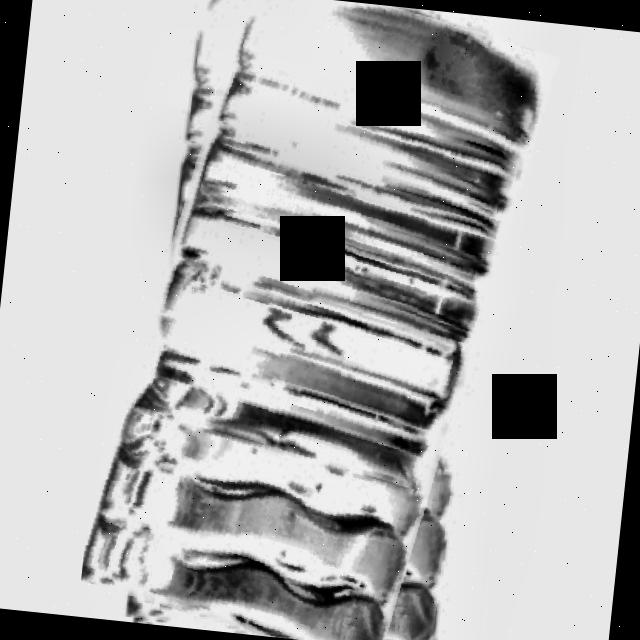bottle: (80, 0, 543, 640)
